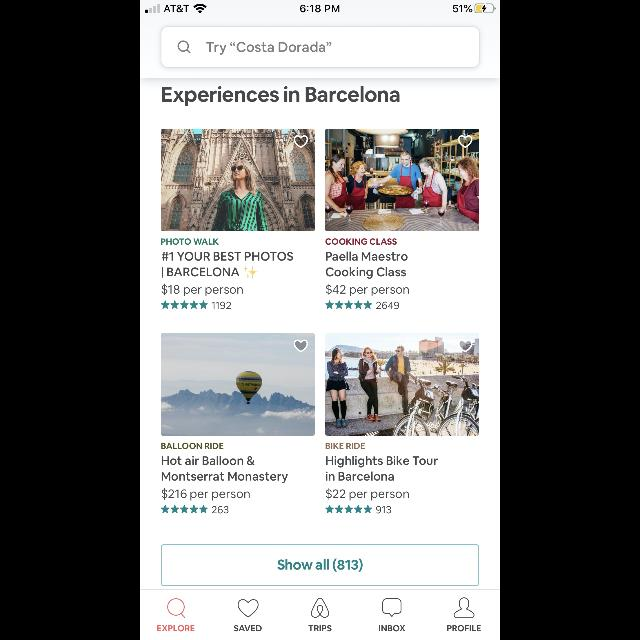icon: (162, 504, 208, 514), (454, 598, 474, 618), (382, 598, 402, 618), (326, 505, 372, 513), (326, 301, 372, 309), (162, 301, 208, 309), (238, 599, 258, 617), (167, 598, 185, 618), (458, 340, 472, 352), (294, 340, 308, 352), (458, 136, 472, 148), (294, 136, 308, 148), (178, 40, 190, 54)
image: (326, 333, 478, 435), (162, 333, 314, 435), (326, 129, 478, 231), (162, 129, 314, 231), (311, 598, 329, 618), (244, 266, 258, 280)
input: (160, 26, 480, 68)
text: (162, 86, 400, 106), (206, 41, 332, 54), (327, 456, 438, 468), (162, 252, 294, 262), (162, 472, 288, 482), (162, 488, 250, 500), (327, 488, 409, 500), (326, 284, 408, 296), (326, 267, 406, 279), (162, 284, 242, 296), (162, 456, 255, 466), (162, 267, 240, 277), (327, 252, 408, 260), (326, 472, 394, 481), (326, 239, 396, 245), (161, 443, 223, 449), (162, 239, 218, 245), (326, 443, 364, 449), (158, 625, 195, 631), (448, 625, 480, 631), (376, 302, 399, 310), (234, 625, 262, 631), (379, 625, 405, 631), (308, 625, 332, 631), (212, 302, 230, 310), (376, 506, 392, 514), (212, 506, 228, 514)
textbutton: (162, 544, 478, 586)
uppertaskbar: (140, 0, 500, 14)
